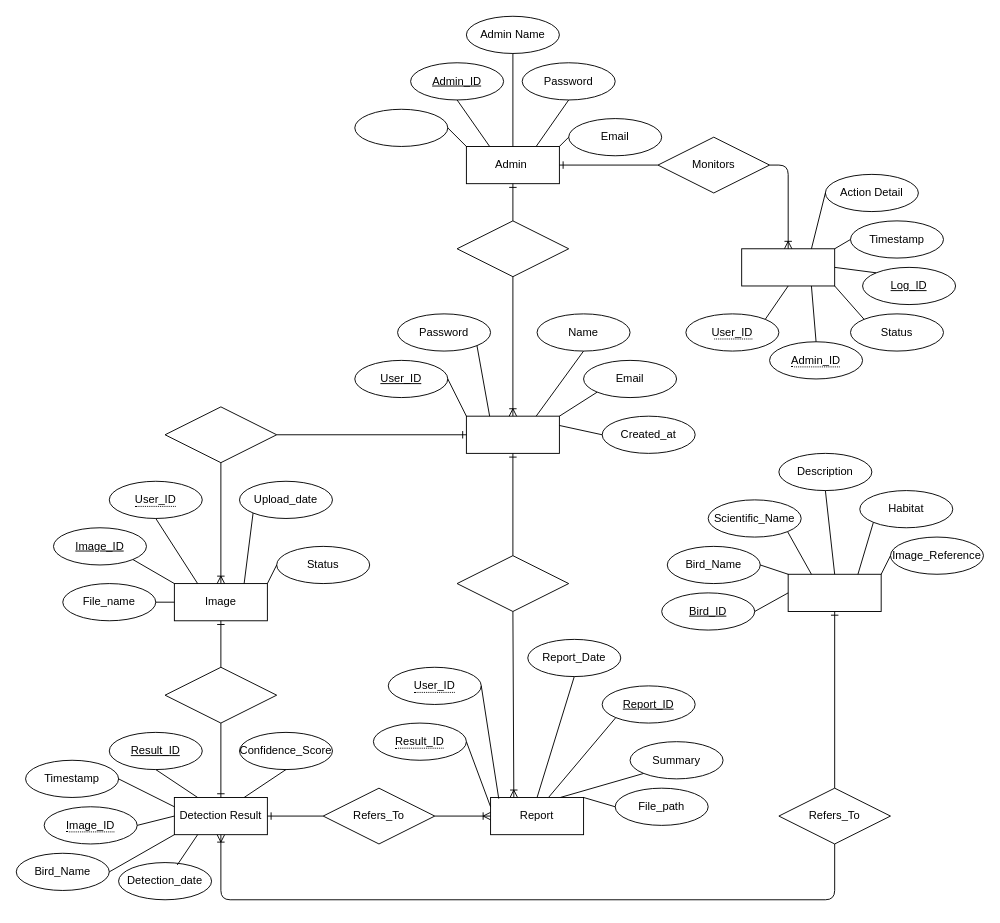
This 1000x923 diagram has some shape labels left out. The centre of each missing label's shape, as x and y in pixels:
"Bird Dataset" belongs at point (834, 592).
"Contact_no." belongs at point (401, 127).
"Generates" belongs at point (512, 583).
"Has" belongs at point (220, 694).
"Manages" belongs at point (512, 248).
"System Log" belongs at point (788, 267).
"Uploads" belongs at point (220, 434).
"User" belongs at point (512, 434).
